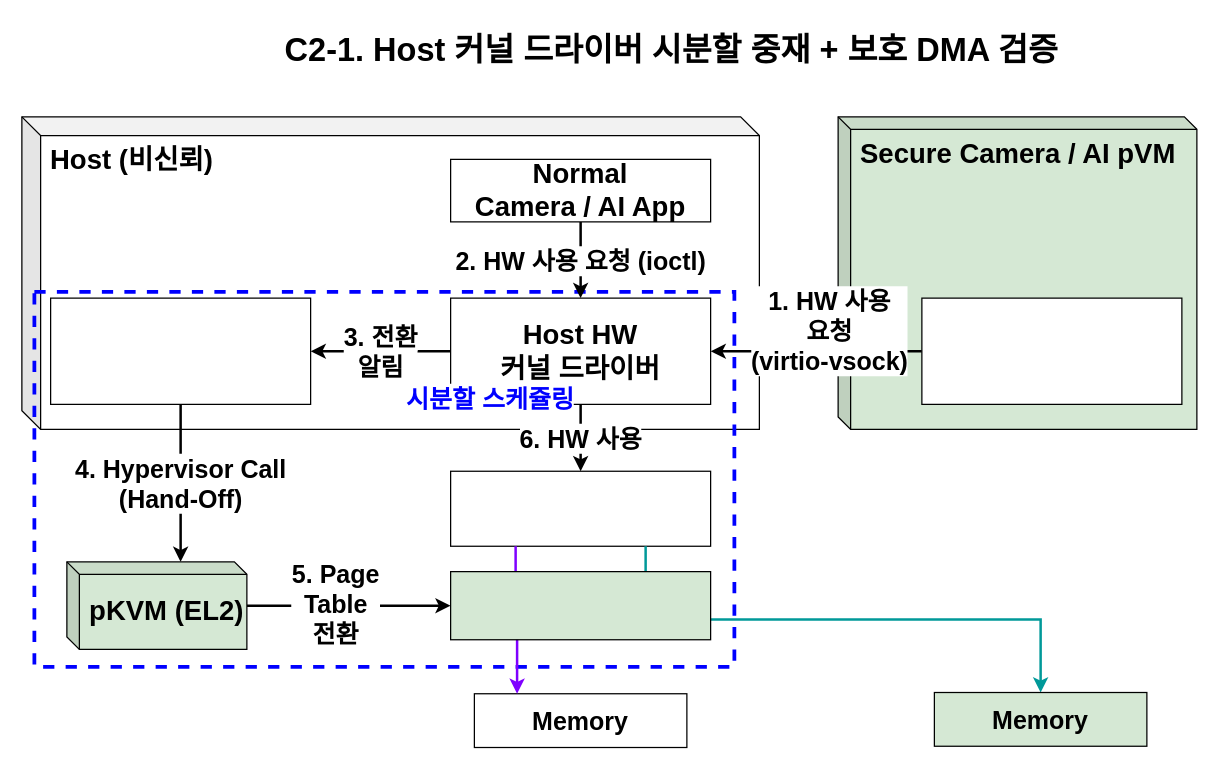
The diagram is 1219 pixels wide and 769 high, and some of its shapes have lost their labels. Each missing label, with the centre of its shape:
"Camera / AI HW IP" goes at point (580, 508).
"Framework 커널 드라이버 (Arbiter)" goes at point (180, 350).
"pVM HW 커널 드라이버" goes at point (1051, 350).
"S2MPU" goes at point (580, 605).
